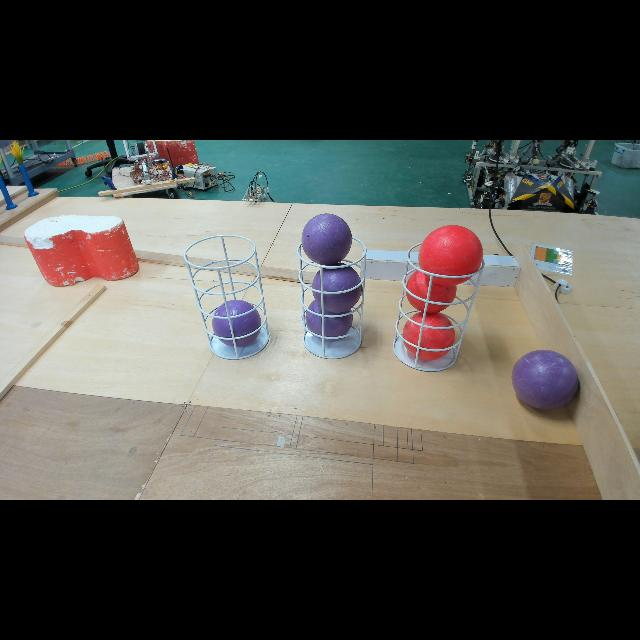P: (511, 349, 579, 411), (302, 213, 352, 265), (312, 262, 362, 314), (212, 299, 262, 346), (305, 298, 353, 342)
R: (418, 224, 484, 286), (402, 312, 456, 361), (406, 266, 456, 314)
S: (392, 240, 488, 374), (182, 234, 272, 360), (294, 232, 368, 362)
